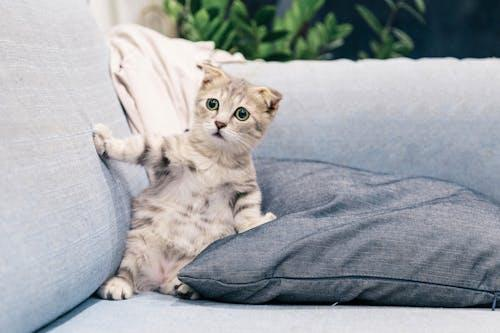kedo: (93, 62, 282, 302)
